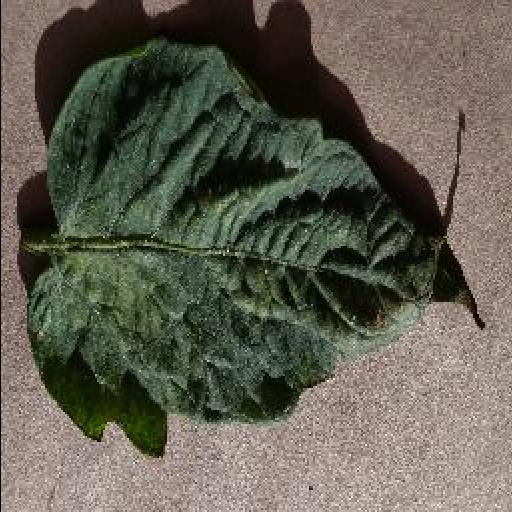disease_tomato: (26, 36, 488, 460)
